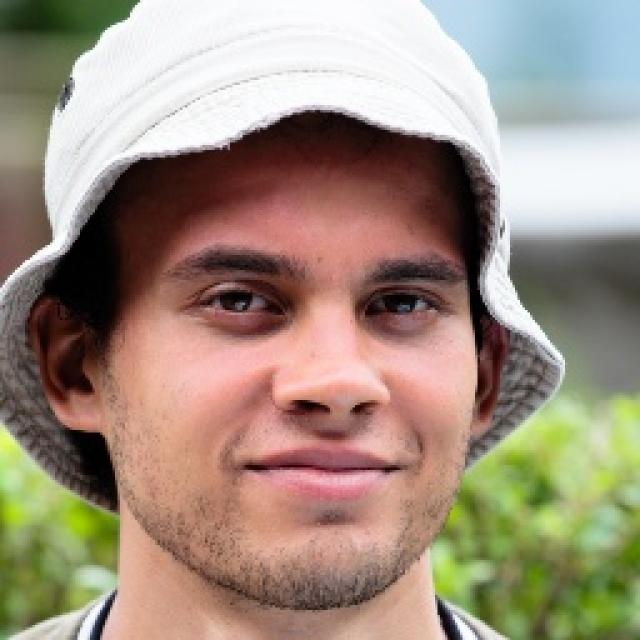earlobe: (23, 290, 106, 434), (467, 310, 508, 444)
